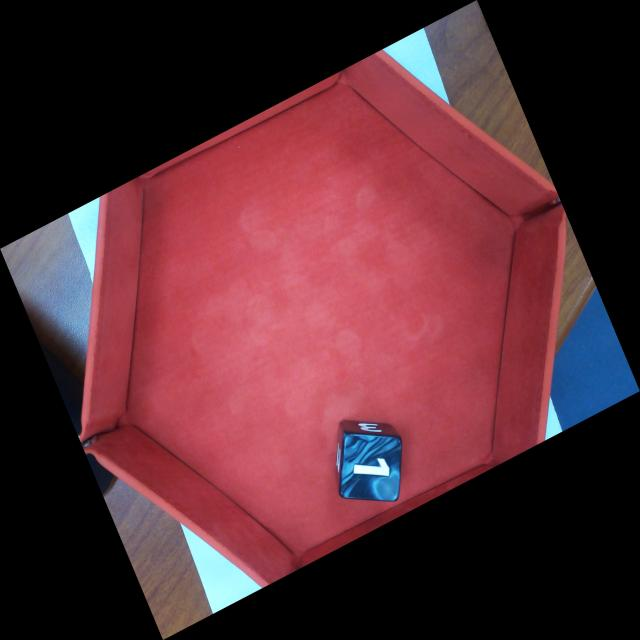dice: (342, 436, 398, 501)
